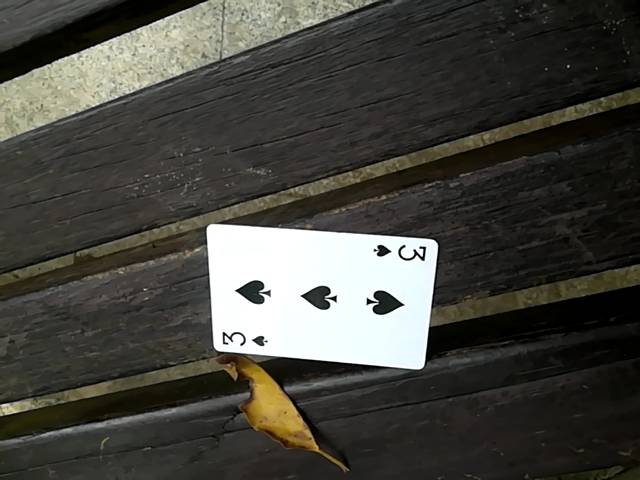ht 3: (201, 221, 444, 372)
